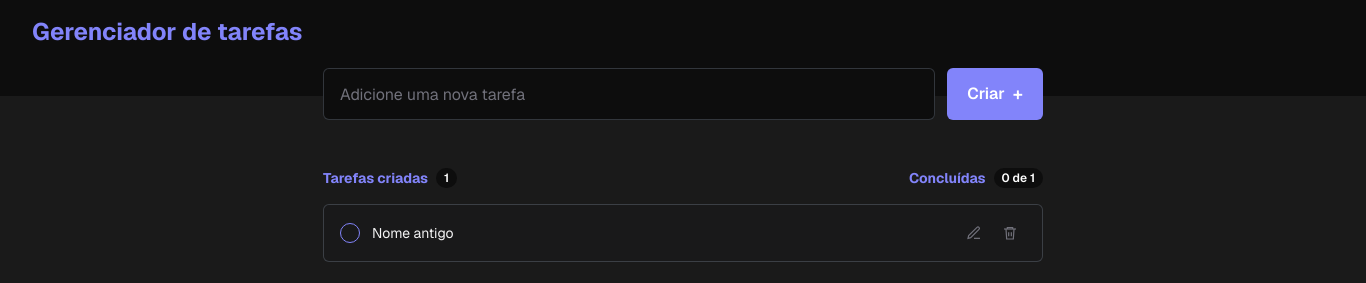
Scenario: TasksHome › Deve editar uma tarefa
Expected: the text "Nome antigo" is shown, [372, 224, 454, 242]
Click the button named "editar tarefa nome antigo". click: (974, 233)
box: [958, 217, 990, 249]
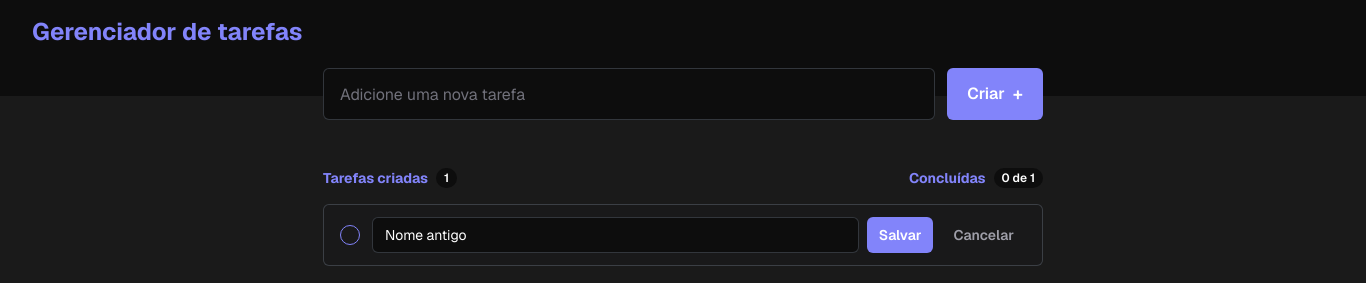
Replace the text in the field named "editar título da tarefa nome antigo" with "Nome novo". click: (615, 235)
box: [372, 217, 859, 253]
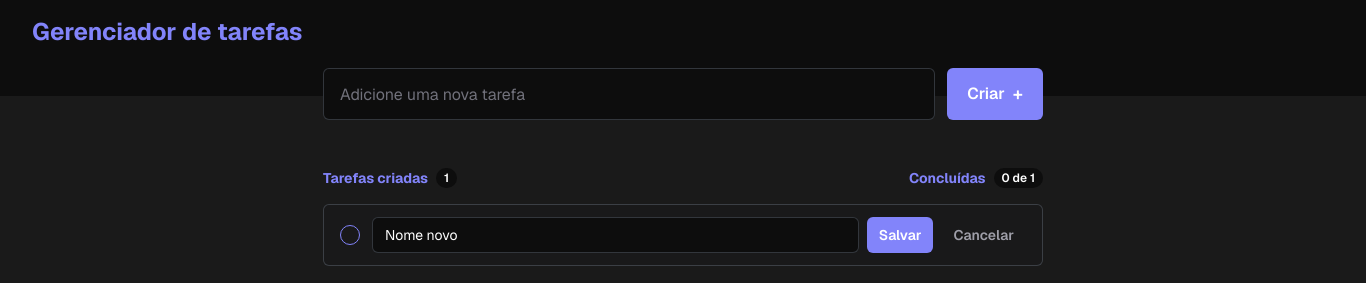
Click the button with aria-label "salvar tarefa nome antigo". click: (900, 235)
box: [867, 217, 934, 253]
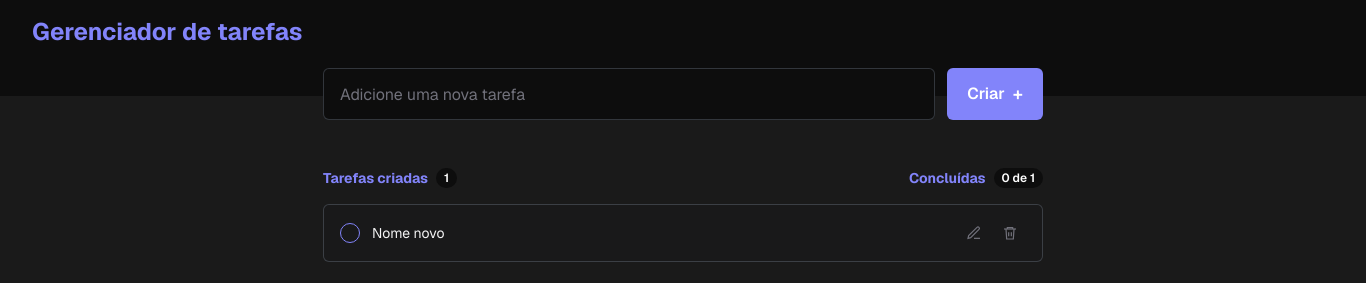
Expected: the text "Nome antigo" is not shown
Expected: the text "Nome novo" is shown, [372, 224, 444, 242]
